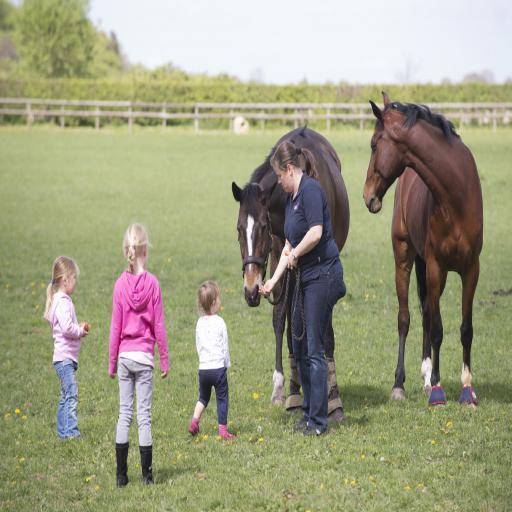horse: (363, 90, 485, 410), (230, 122, 350, 422)
